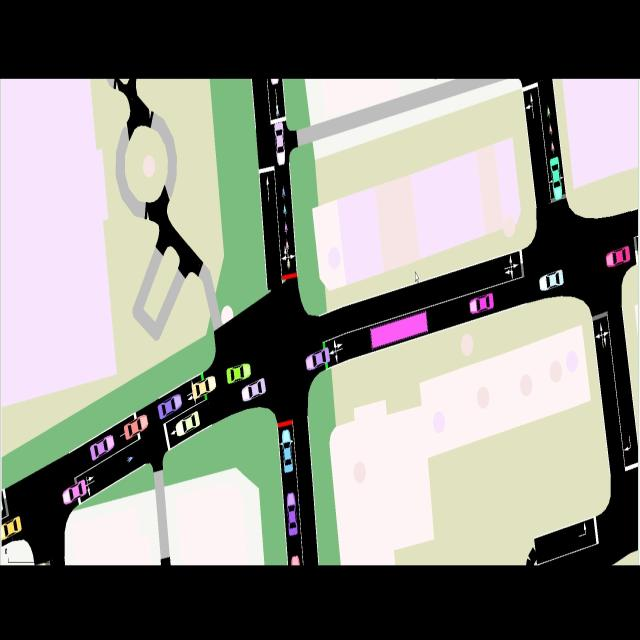vehicle: (371, 311, 428, 349), (157, 392, 183, 420), (90, 435, 115, 464), (62, 477, 86, 507), (174, 411, 200, 438), (123, 416, 149, 442), (241, 376, 266, 402), (550, 156, 564, 202), (280, 429, 294, 474), (538, 268, 564, 292), (274, 119, 286, 167), (192, 376, 216, 400), (225, 363, 252, 384), (470, 293, 494, 316), (306, 348, 330, 370), (286, 492, 298, 536), (605, 247, 630, 267)
